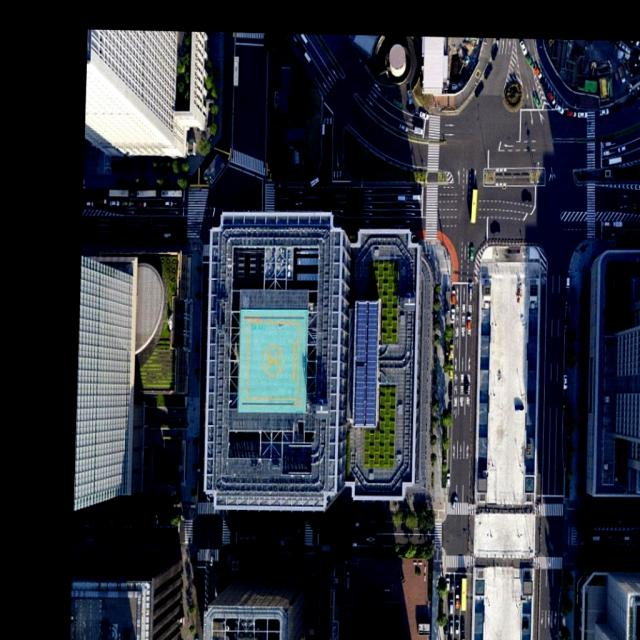helipad: (259, 342, 285, 377)
